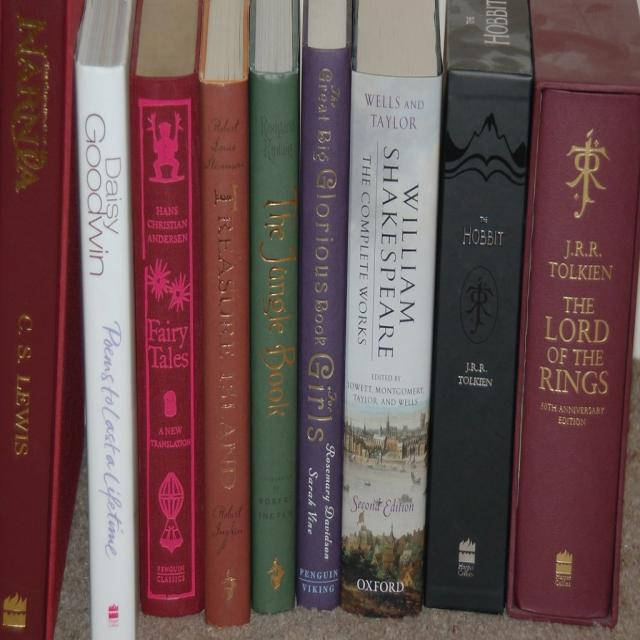book: (511, 84, 638, 625), (425, 69, 534, 616), (338, 73, 442, 613), (1, 4, 74, 634), (71, 63, 141, 640), (136, 75, 198, 618), (300, 46, 350, 617), (201, 82, 247, 621), (252, 73, 296, 614)
